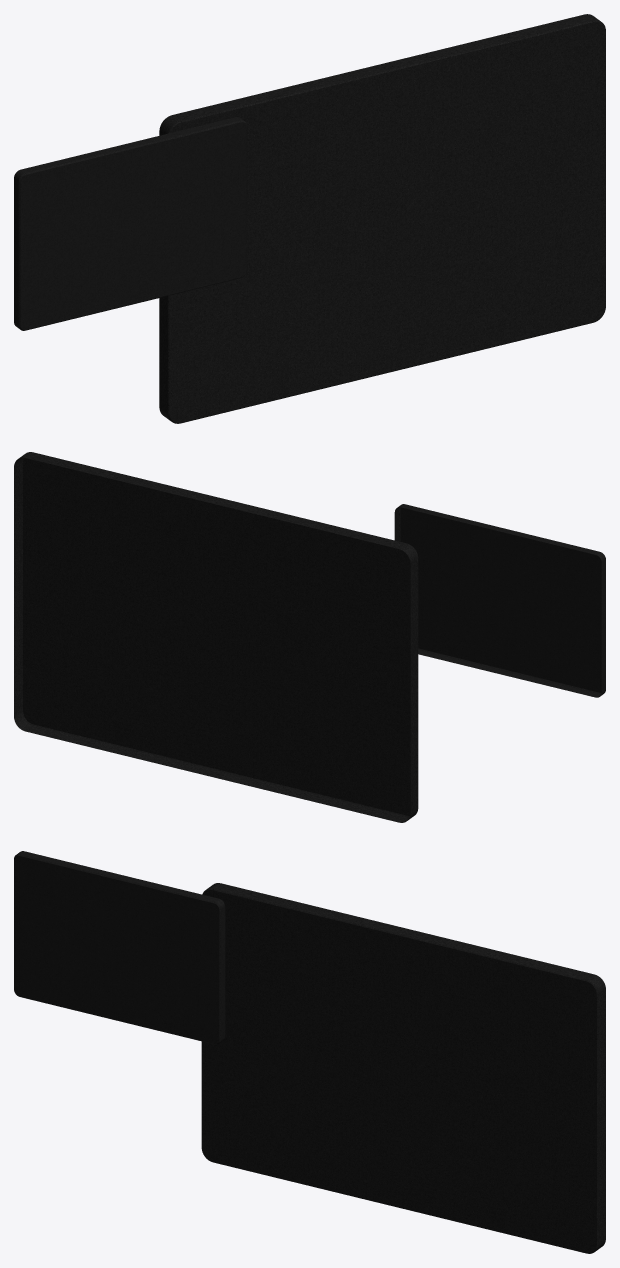
Rendered from hero-transformed.glb.
3 renders of one model, top to bottom at view 1: azimuth 30°, elevation 25°; view 2: azimuth 150°, elevation 25°; view 3: azimuth 330°, elevation 25°, orthographic. The views are drawn at different scales.
Parts seen in each view (by area): view 1: Cube, Cube.001; view 2: Cube, Cube.001; view 3: Cube, Cube.001.
Part boxes in pixels (x1,y1,x2,y2): Cube: (159,14,605,423); Cube.001: (14,117,247,330); Cube: (14,452,418,822); Cube.001: (394,504,605,697); Cube: (201,883,605,1253); Cube.001: (14,851,225,1044).
Bounding box in the file's own units: 2.76 × 1.35 × 0.2969.
Materials: 1 (1 with a texture image).
